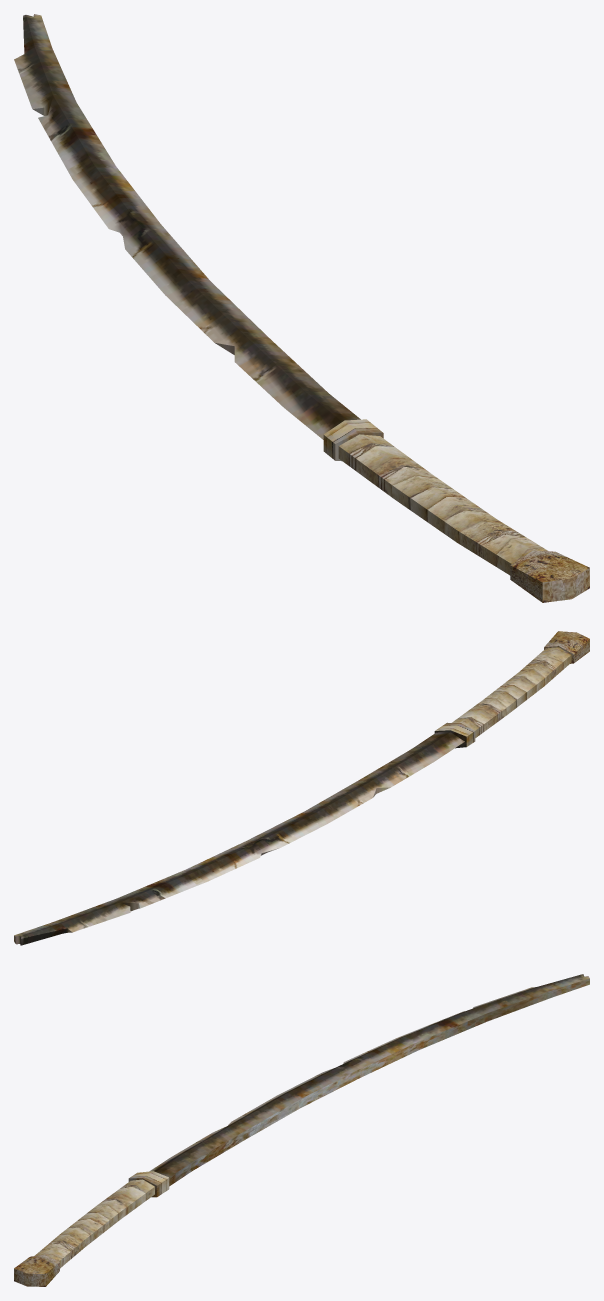
File: sword_nope_sword1_nope_sword1.glb
3 views of the same model, one above another, from view 1: azimuth 30°, elevation 25°; view 2: azimuth 150°, elevation 25°; view 3: azimuth 330°, elevation 25° (orthographic). The views are drawn at different scales.
Size of the model in its own units: 0.2639 by 0.0342 by 1.48.
Materials: 1 (1 with a texture image).
